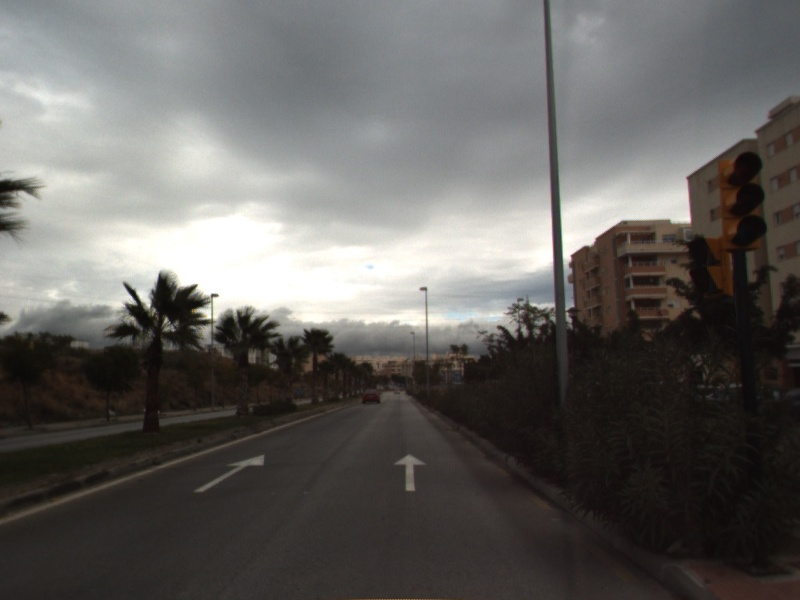STRAIGHT: (192, 453, 266, 495), (392, 452, 429, 493)
